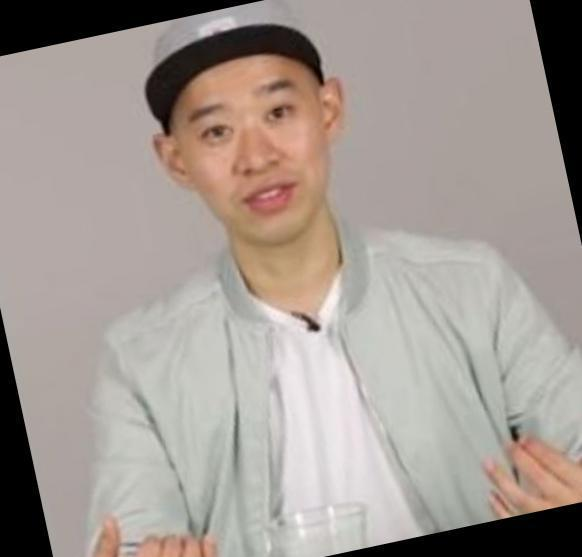Sober: (189, 68, 333, 236)
